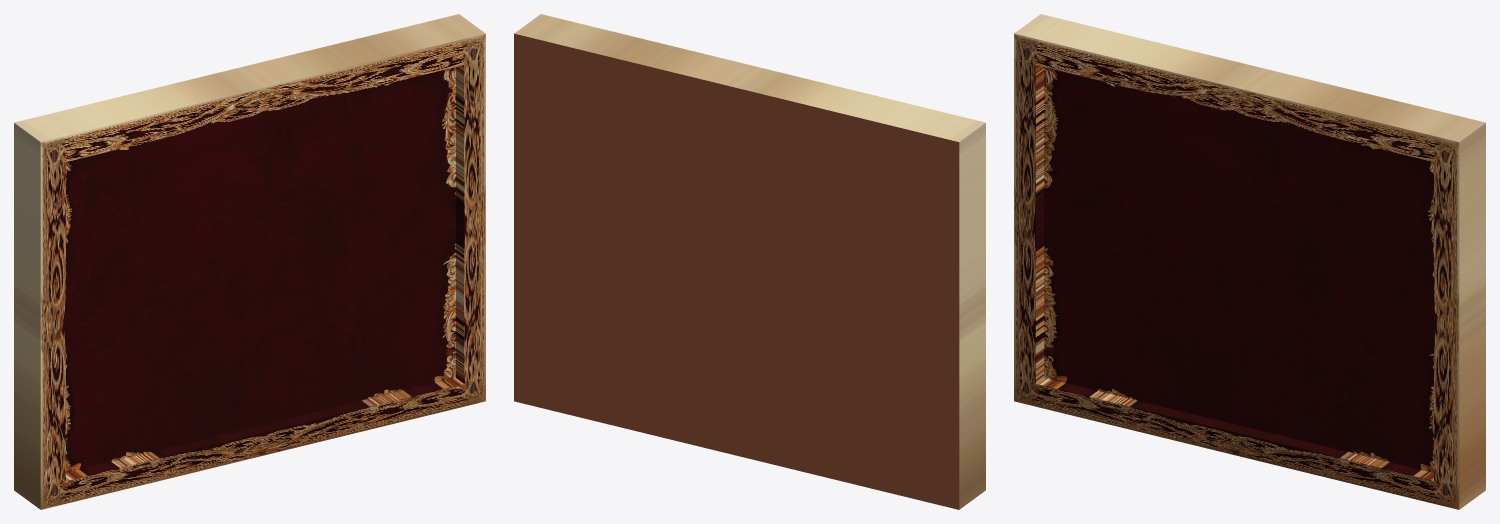
The model's file is panel_hud.glb.
3 renders of one model, left to right at view 1: azimuth 30°, elevation 25°; view 2: azimuth 150°, elevation 25°; view 3: azimuth 330°, elevation 25°, orthographic.
Visible parts, largest first — view 1: panel_hud; view 2: panel_hud; view 3: panel_hud.
Part boxes in pixels (left/top/right/bottom): panel_hud: left=14, top=14, right=485, bottom=509; panel_hud: left=514, top=14, right=985, bottom=509; panel_hud: left=1014, top=14, right=1485, bottom=509.
Bounding box in the file's own units: 0.38 × 0.3 × 0.042.
1 material, 1 textured.
